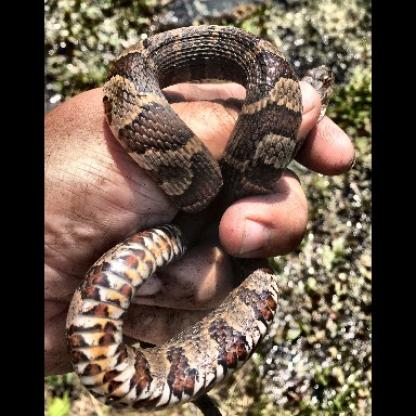Snake: (62, 16, 343, 408)
